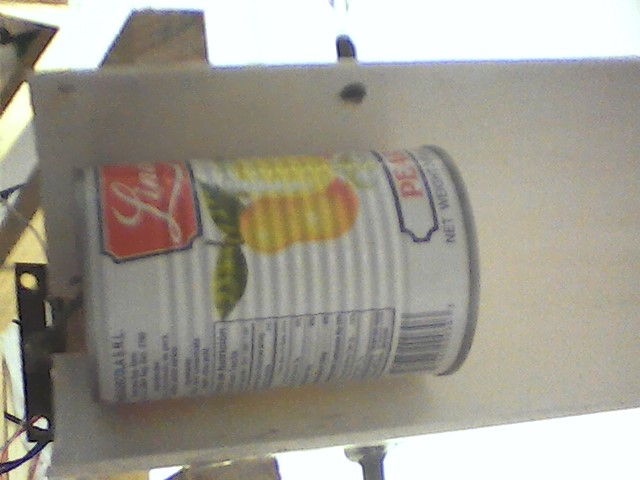lata: (67, 143, 488, 418)
